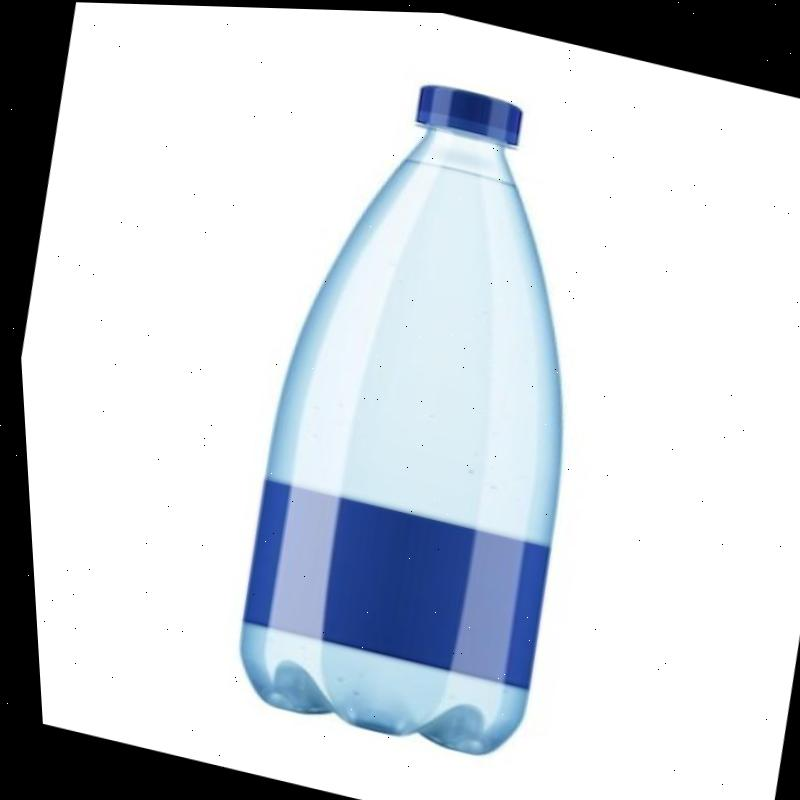botella: (192, 52, 646, 768)
